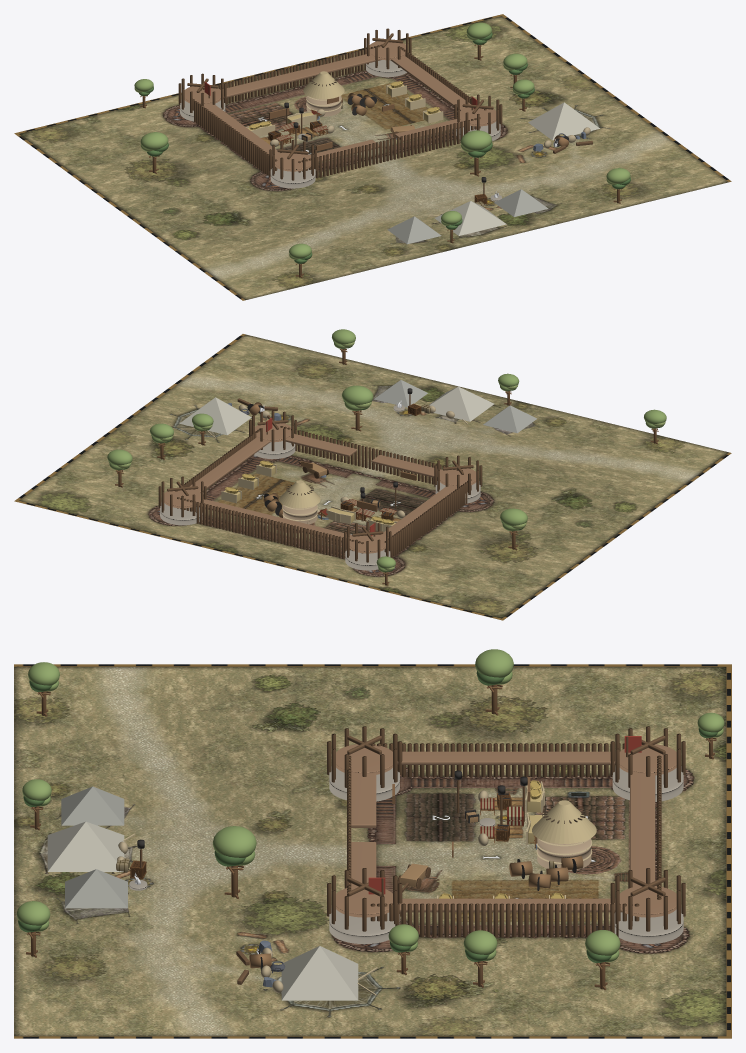
Rendered from destons-trading-post-unreal.glb.
3 views of the same model, one above another, from view 1: azimuth 30°, elevation 25°; view 2: azimuth 150°, elevation 25°; view 3: azimuth 270°, elevation 25° (orthographic). The views are drawn at different scales.
Parts seen in each view (by area): view 1: Original Deston's Trading Post sketch texture, North raised walk, Campsite pavilion, Meridian center tent, East raised walk, Meridian left tent, Meridian right tent, Round storage thatch, West raised walk, SW tower-stone-ring, Tree 2 layered canopy 0, SW tower-deck (+3 smaller); view 2: Original Deston's Trading Post sketch texture, Meridian center tent, Campsite pavilion, East raised walk, North raised walk, Meridian left tent, Meridian right tent, Round storage thatch, West raised walk, South raised walk east, South raised walk west, NE tower-stone-ring (+6 smaller); view 3: Original Deston's Trading Post sketch texture, Campsite pavilion, Meridian center tent, West raised walk, North raised walk, Meridian right tent, Meridian left tent, East raised walk, Round storage thatch, NE tower-stone-ring, SE tower-stone-ring, South raised walk west (+13 smaller).
Part boxes in pixels (bbox=[...]): Original Deston's Trading Post sketch texture: bbox=[14, 14, 731, 300]; North raised walk: bbox=[220, 54, 381, 98]; Campsite pavilion: bbox=[528, 102, 600, 140]; Meridian center tent: bbox=[434, 201, 506, 235]; East raised walk: bbox=[390, 55, 470, 110]; Meridian left tent: bbox=[387, 216, 441, 244]; Meridian right tent: bbox=[494, 189, 548, 216]; Round storage thatch: bbox=[303, 71, 344, 99]; West raised walk: bbox=[201, 103, 280, 156]; SW tower-stone-ring: bbox=[270, 168, 315, 188]; Tree 2 layered canopy 0: bbox=[460, 130, 492, 151]; SW tower-deck: bbox=[275, 152, 311, 171]; Original Deston's Trading Post sketch texture: bbox=[14, 334, 731, 620]; Meridian center tent: bbox=[429, 386, 494, 421]; Campsite pavilion: bbox=[179, 397, 251, 435]; East raised walk: bbox=[190, 437, 270, 492]; North raised walk: bbox=[196, 499, 352, 541]; Meridian left tent: bbox=[483, 405, 536, 433]; Meridian right tent: bbox=[374, 380, 427, 407]; Round storage thatch: bbox=[279, 480, 320, 508]; West raised walk: bbox=[380, 485, 456, 537]; South raised walk east: bbox=[285, 433, 357, 456]; South raised walk west: bbox=[371, 455, 442, 478]; NE tower-stone-ring: bbox=[160, 502, 202, 525]; Original Deston's Trading Post sketch texture: bbox=[14, 664, 731, 1038]; Campsite pavilion: bbox=[281, 946, 358, 1000]; Meridian center tent: bbox=[47, 821, 124, 871]; West raised walk: bbox=[397, 751, 615, 764]; North raised walk: bbox=[630, 772, 655, 887]; Meridian right tent: bbox=[65, 869, 127, 908]; Meridian left tent: bbox=[61, 786, 124, 825]; East raised walk: bbox=[397, 898, 622, 912]; Round storage thatch: bbox=[532, 800, 596, 843]; NE tower-stone-ring: bbox=[614, 908, 683, 944]; SE tower-stone-ring: bbox=[329, 908, 399, 944]; South raised walk west: bbox=[351, 773, 376, 827].
Size of the model in its own units: 18 by 1.53 by 14.59.
118 materials, 1 textured.
